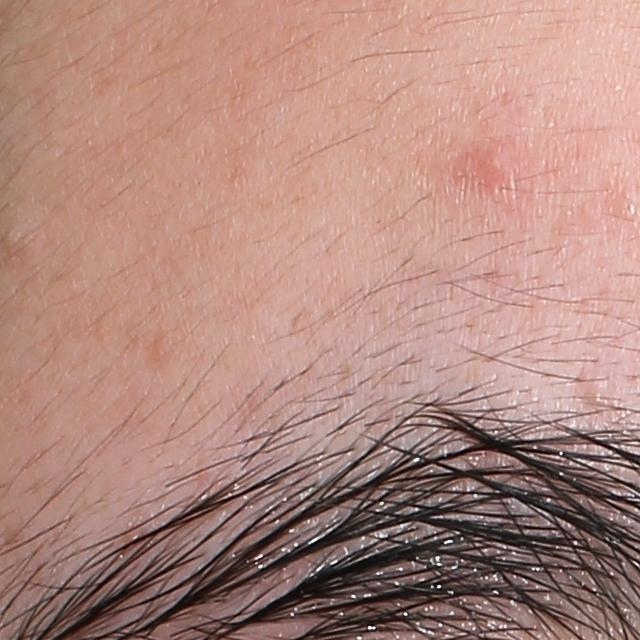papule: (480, 147, 509, 186)
